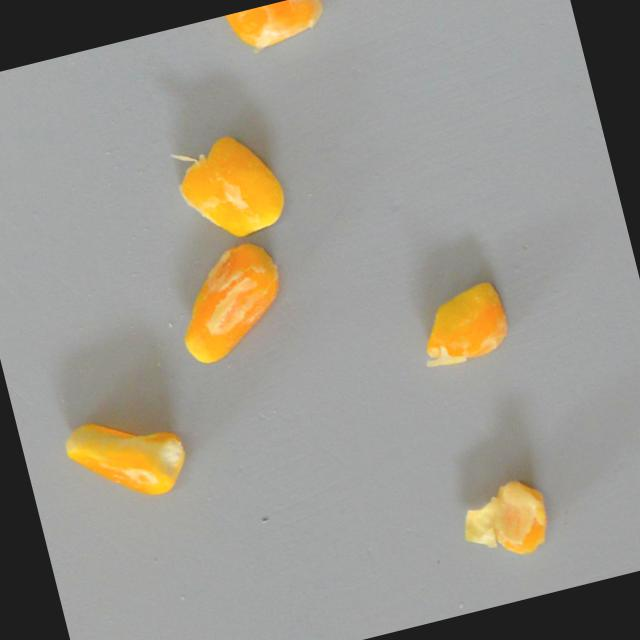pelicula: (149, 231, 297, 373), (160, 117, 306, 248), (57, 392, 201, 519), (428, 455, 572, 582), (389, 262, 533, 388), (203, 0, 333, 63)
